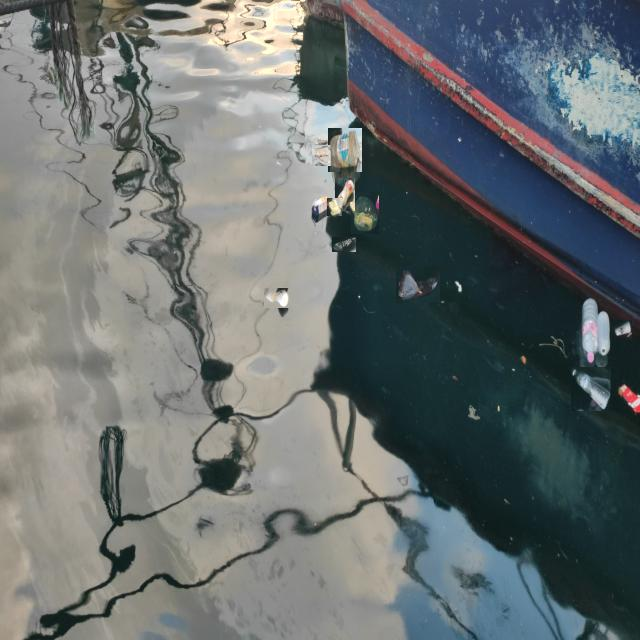Juice box: (311, 195, 330, 217)
Plastic bag: (396, 266, 440, 303), (351, 192, 379, 235), (303, 134, 330, 150), (332, 237, 356, 252)
Plastic bottle: (571, 367, 611, 411), (328, 128, 362, 172), (581, 294, 599, 366), (596, 310, 611, 356), (335, 178, 355, 211), (264, 288, 289, 308)
Plastic cup: (614, 320, 632, 338)
Plastic packaging: (617, 381, 640, 416), (312, 145, 331, 166), (327, 198, 342, 216)
